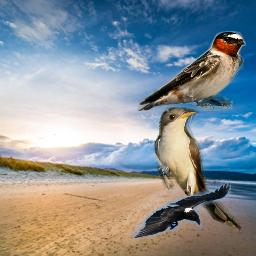Crow: (132, 181, 231, 238)
Cuckoo: (154, 107, 243, 235)
Swallow: (137, 30, 246, 111)
